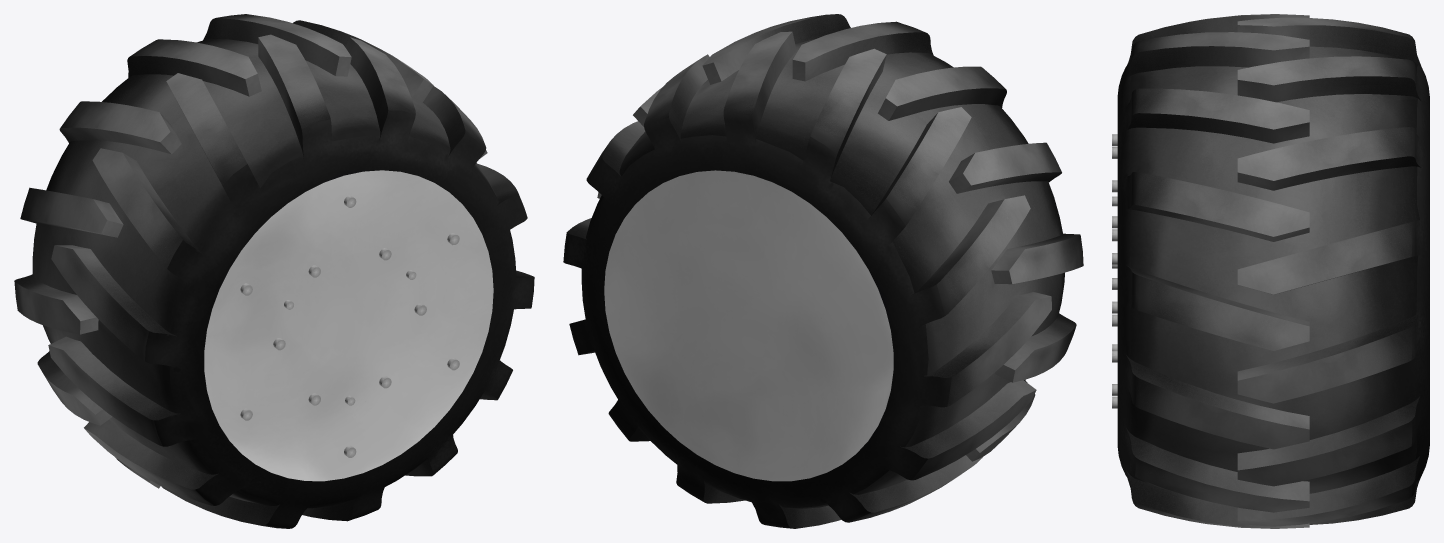
File: rubber_wheel_right.dae
3 views of the same model, side by side, from view 1: azimuth 30°, elevation 25°; view 2: azimuth 150°, elevation 25°; view 3: azimuth 270°, elevation 25° (orthographic). The views are drawn at different scales.
Parts seen in each view (by area): view 1: rubber_wheel; view 2: rubber_wheel; view 3: rubber_wheel.
Boxes of the visible parts, x1,y1,x2,y2 form: rubber_wheel: (14,14,534,528); rubber_wheel: (563,14,1083,528); rubber_wheel: (1112,14,1429,528).
Bounding box in the file's own units: 0.235 × 0.145 × 0.235.
1 material, 1 textured.
